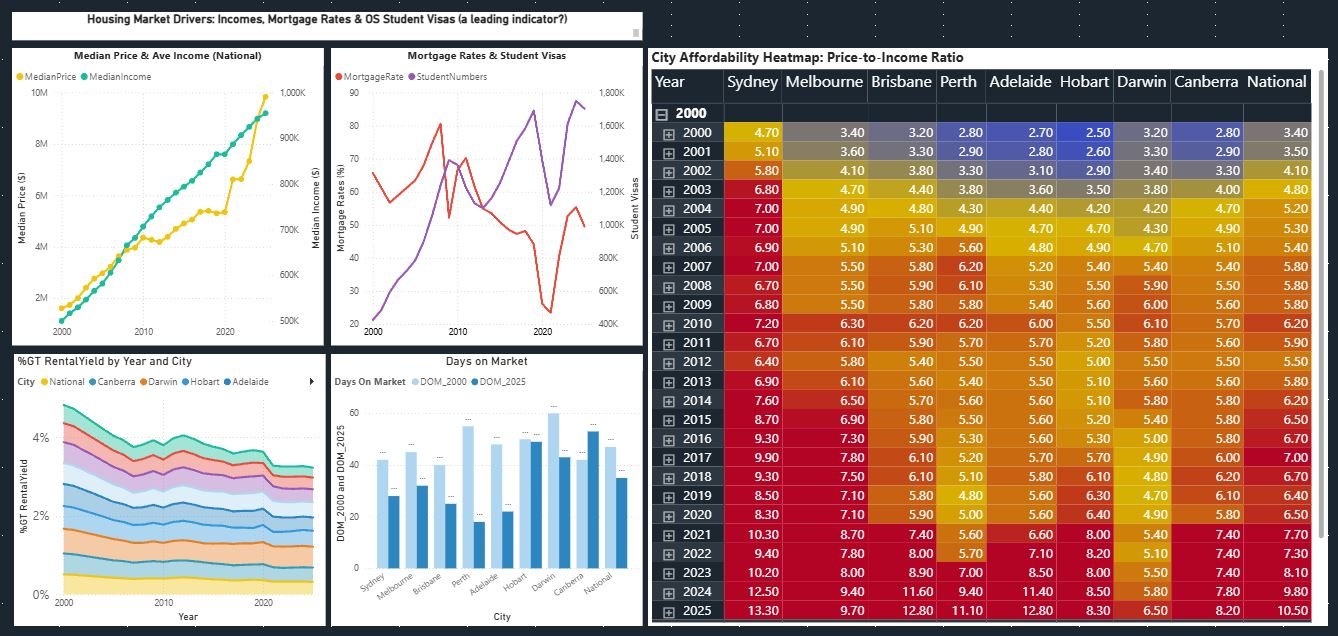

This screenshot's page, from the dashboard's own definition file:
{"tool":"powerbi","page":{"name":"Property Market Overview","canvas":[1920,1080],"ordinal":0},"visuals":[{"type":"lineChart","title":"Median Price & Ave Income","fields":{"Category":["DimYear.Year"],"Y":["Table.MedianPrice"],"Y2":["Table.MedianIncome"]},"box":[30,80,440,420],"z":0},{"type":"lineChart","title":"Mortgage Rates & Student Visas","fields":{"Category":["DimYear.Year"],"Y":["Table.MortgageRate"],"Y2":["Table.StudentNumbers"]},"box":[480,80,440,420],"z":1000},{"type":"textbox","title":"Housing Market Drivers: Incomes, Mortgage Rates & OS Student Visas (a leading indicator?)","box":[30,30,890,40],"z":1001},{"type":"pivotTable","title":"City Affordability Heatmap: Price-to-Income Ratio","fields":{"Rows":["HeatmapData.Year","PropertyMetrics.Year","HeatmapData.Metric"],"Columns":["DimCity.City"],"Values":["Table.PriceToIncomeRatio"]},"box":[928,80,960,816],"z":1002},{"type":"clusteredColumnChart","title":"Days on Market","fields":{"Category":["DimCity.City"],"Y":["Table.DOM_2000","Table.DOM_2025"]},"box":[480,512,440,384],"z":1003},{"type":"stackedAreaChart","fields":{"Category":["DimYear.Year"],"Y":["Table.RentalYield"],"Series":["DimCity.City"]},"box":[32,512,440,384],"z":1004}]}

Visuals, with their boxes on the page's 1920x1080 design canvas (x1, y1, x2, y2). These are canvas units, not pixel positions in the 1338x636 screenshot, which may show the page scaled, cropped or inside an application window:
"Median Price & Ave Income" lineChart: 30,80,470,500
"Mortgage Rates & Student Visas" lineChart: 480,80,920,500
"Housing Market Drivers: Incomes, Mortgage Rates & OS Student Visas (a leading indicator?)" textbox: 30,30,920,70
"City Affordability Heatmap: Price-to-Income Ratio" pivotTable: 928,80,1888,896
"Days on Market" clusteredColumnChart: 480,512,920,896
stackedAreaChart - DimYear.Year x Table.RentalYield: 32,512,472,896
